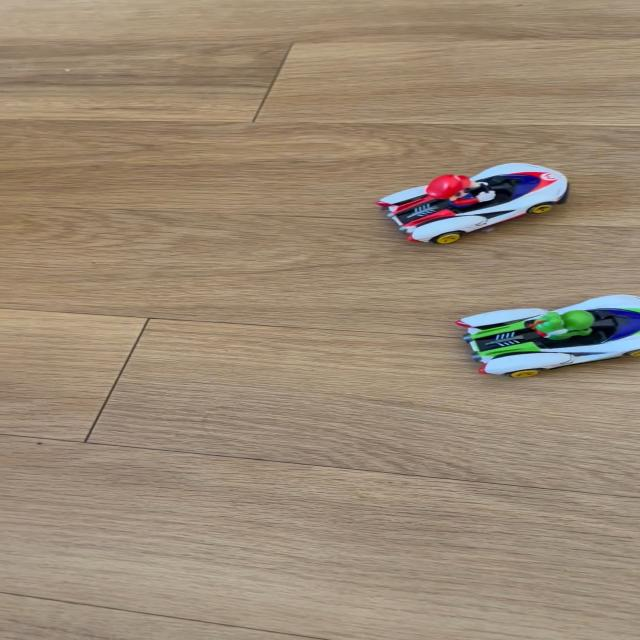mario: (369, 163, 586, 248)
yoshi: (449, 289, 639, 376)
